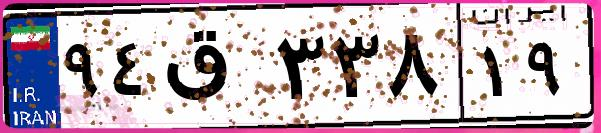1: (475, 38, 525, 113)
3: (270, 28, 330, 110), (330, 28, 385, 110)
4: (110, 28, 158, 98)
8: (385, 28, 445, 110)
9: (57, 26, 110, 100), (525, 38, 570, 115)
ق: (158, 20, 270, 120)
